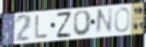2: (14, 14, 32, 44)
L: (34, 14, 49, 40)
N: (94, 7, 114, 37)
O: (72, 9, 93, 37), (114, 6, 131, 34)
Z: (56, 11, 72, 39)
